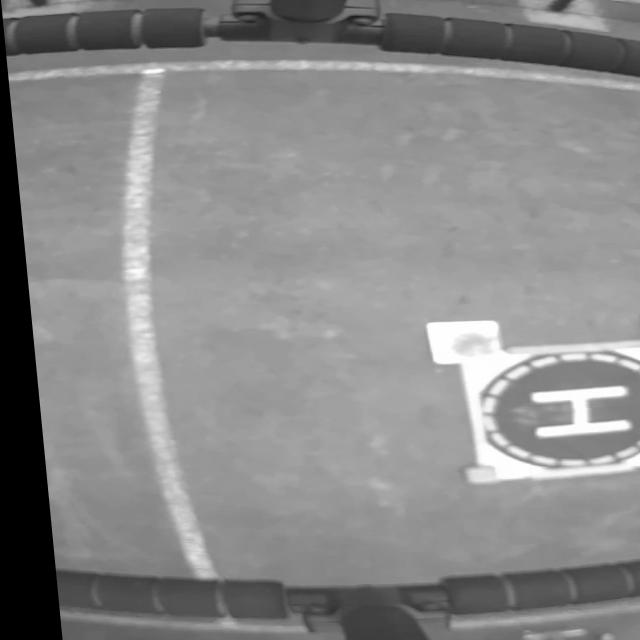Helipad: (521, 387, 623, 438)
